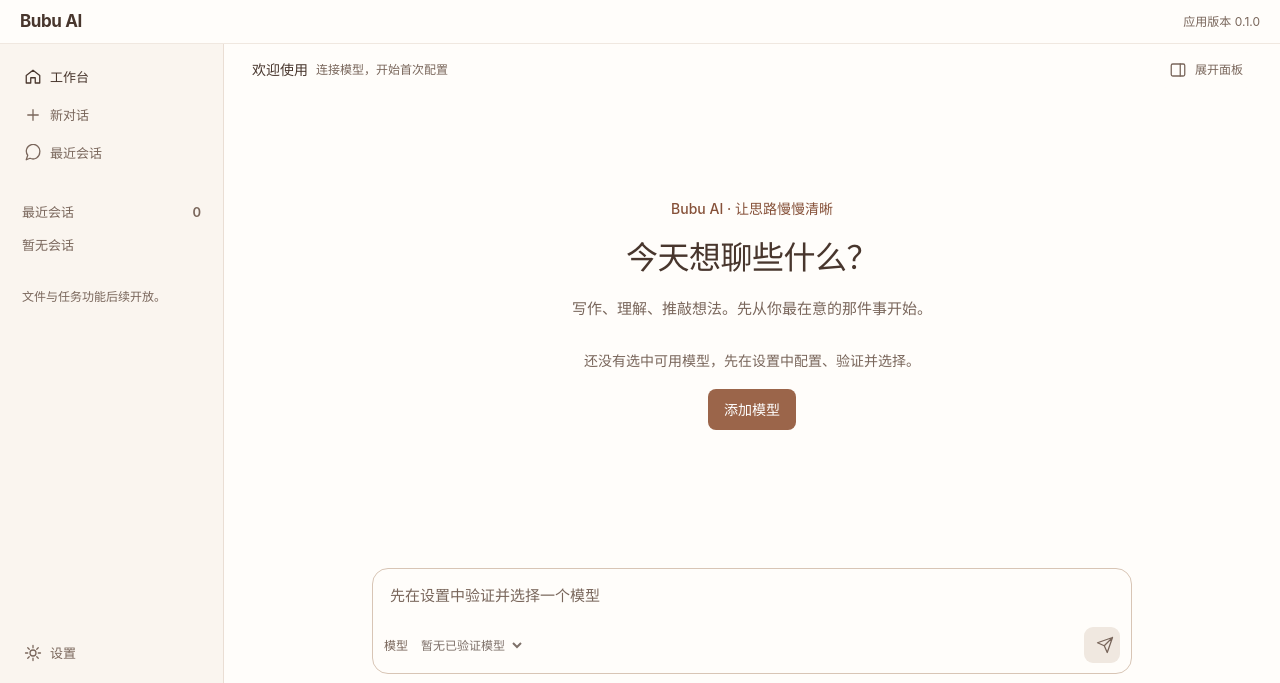
Test case: model settings with an explicitly mocked bridge › cancels a pending probe using its own request ID
Check: the text "应用版本 0.1.0" is shown, box [1183,12,1260,31]
Click the button "设置" at [112, 653], box [12,634,211,672]
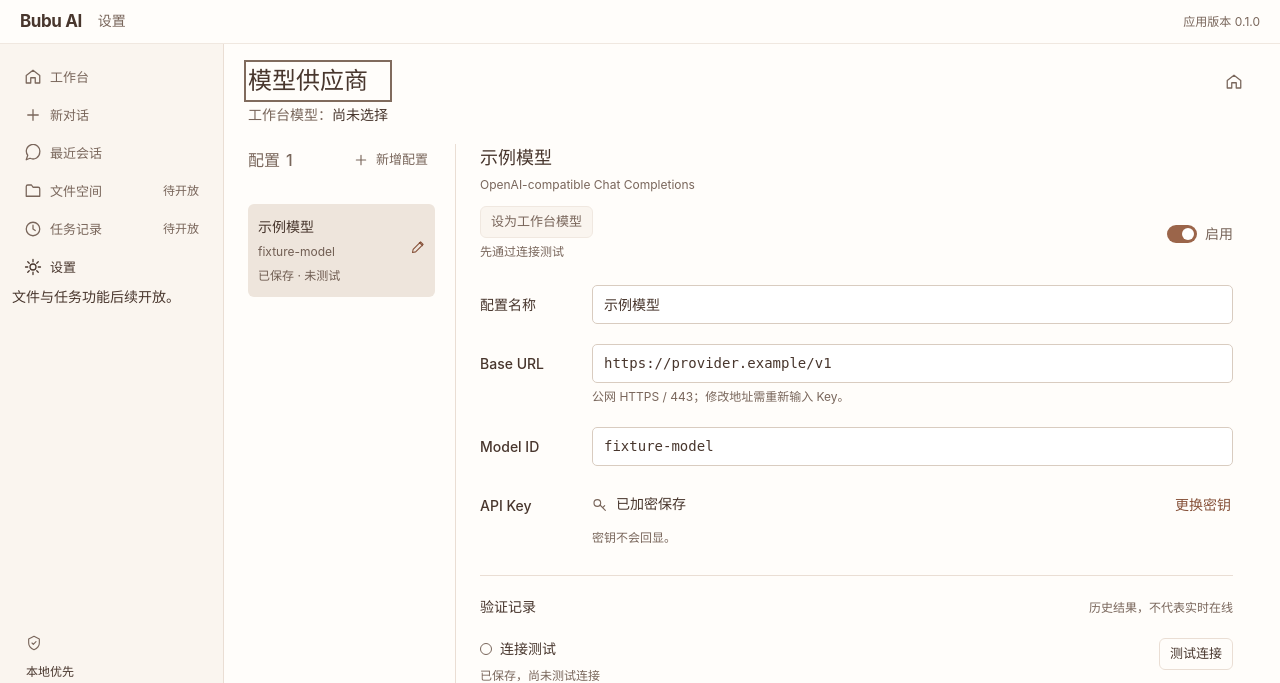
Click the button "测试连接" at [1196, 654], box [1159,638,1233,670]
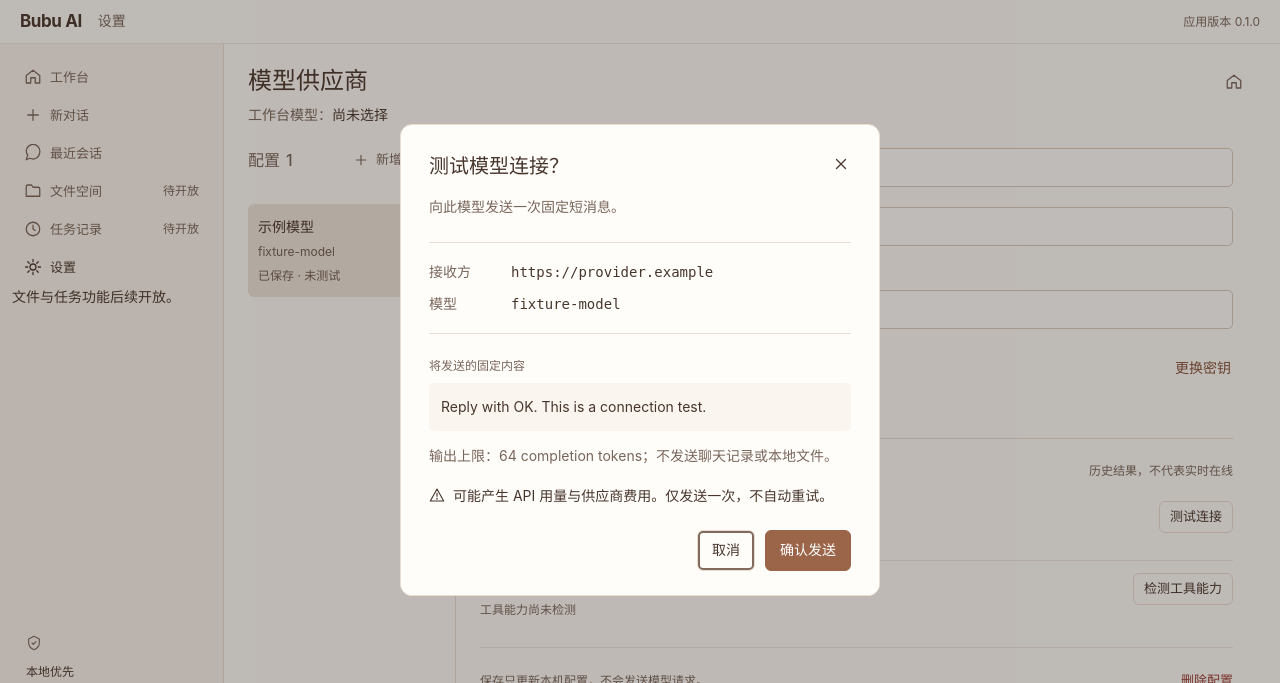
Click the button "确认发送" at [808, 550], box [765,530,851,571]
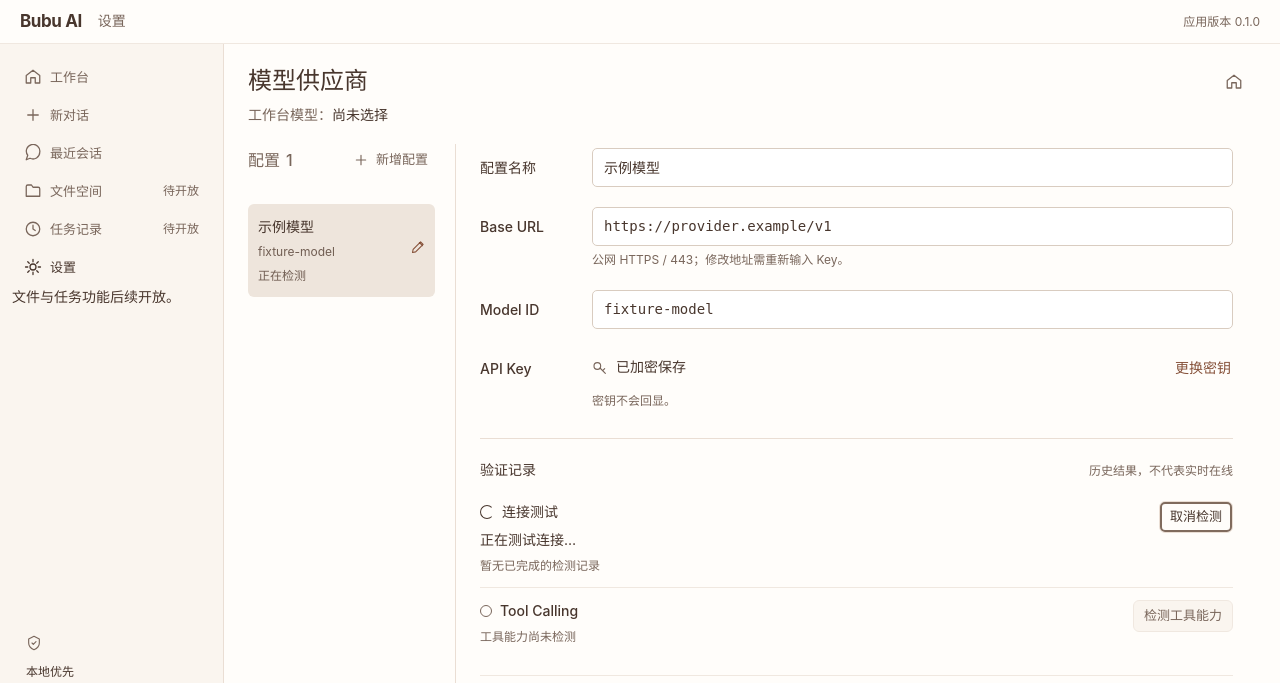
Check: the button "取消检测" is shown
Check: the text "暂无已完成的检测记录" is shown, box [480,556,600,575]
Click the button "取消检测" at [1196, 517], box [1159,501,1233,533]
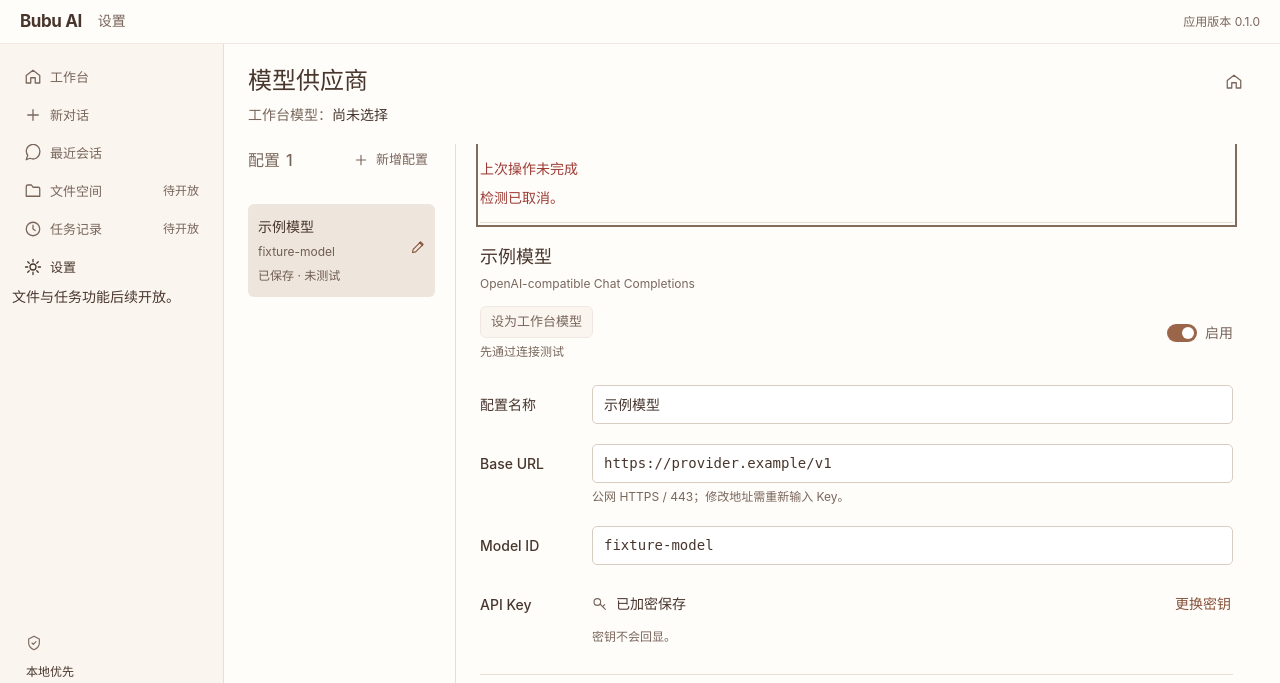
Check: the text "检测已取消。" is shown, box [480,189,564,206]
